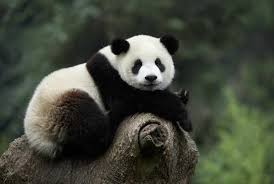panda: (22, 32, 196, 164)
